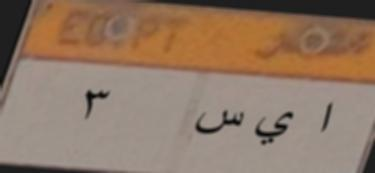3: (76, 84, 113, 120)
alif: (312, 92, 339, 144)
seen: (194, 102, 246, 143)
yaa: (252, 104, 294, 156)
